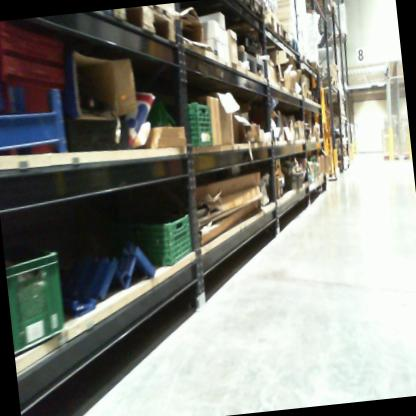pallet: (112, 4, 181, 52), (223, 11, 284, 48), (314, 69, 339, 90), (290, 34, 303, 59), (281, 28, 292, 46), (312, 62, 323, 77), (392, 153, 408, 163), (304, 88, 314, 101)
